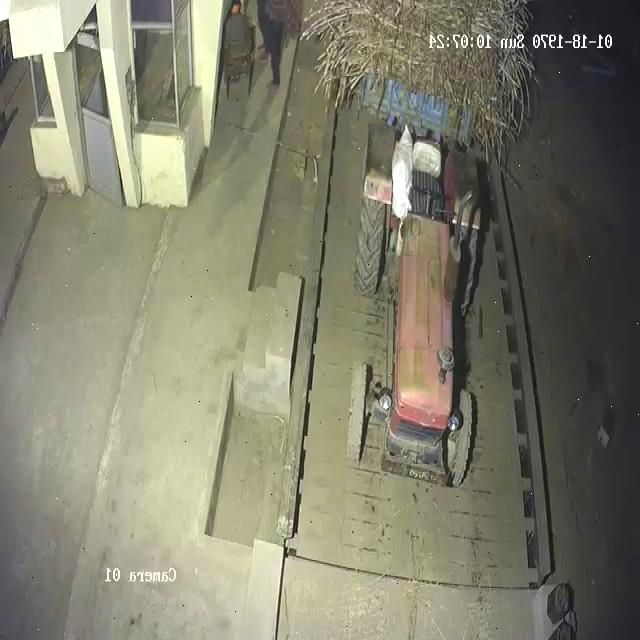Tratores - v5 YOLO V8L 2024-11-13: (341, 122, 495, 482)
